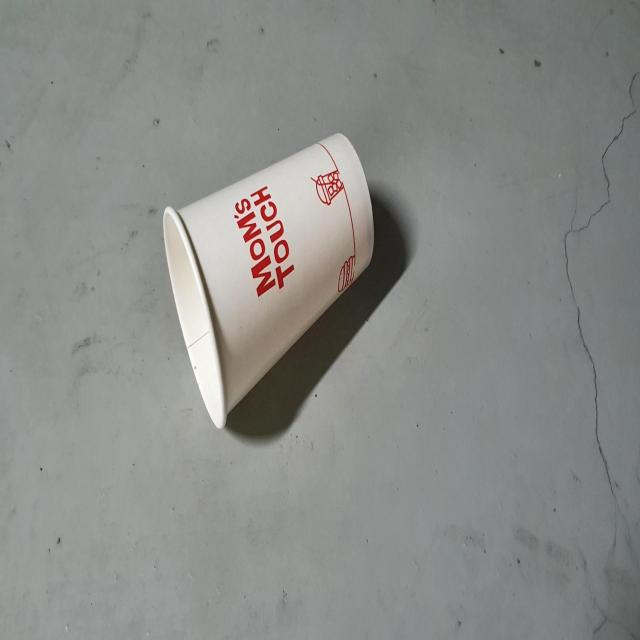paperpack: (163, 133, 374, 428)
